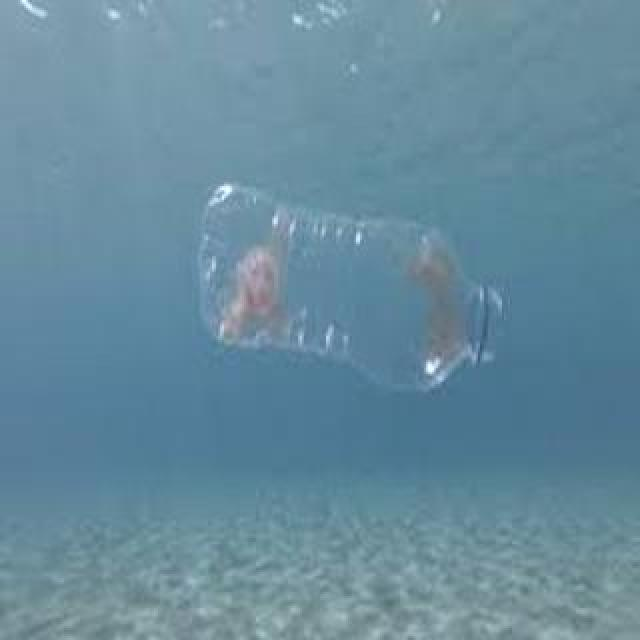Pet_Bottle: (195, 183, 513, 395)
